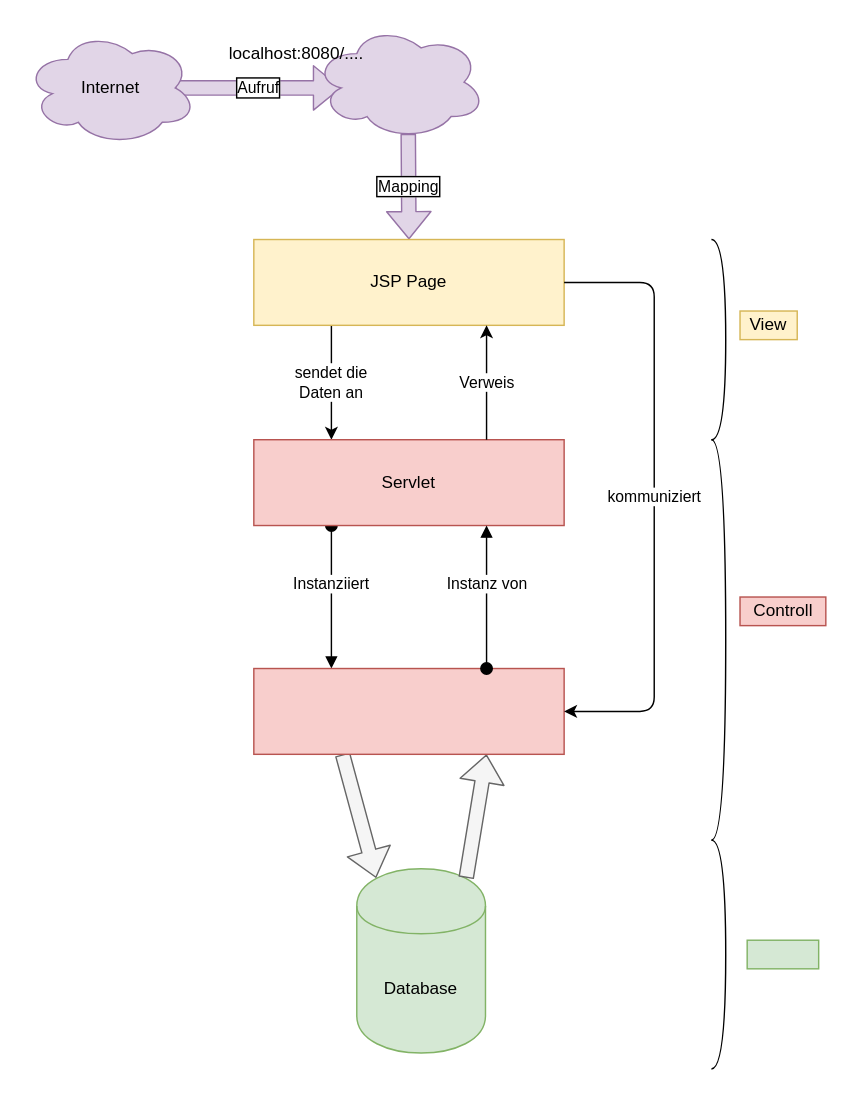
This 851x1094 diagram has some shape labels left out. The shapes that lost their labels are listed below. From the top down, each one's box as (x1, y1, x2, y2) in pixels, then its label:
(312, 24, 485, 139): Tomcat
(252, 667, 564, 754): Bean
(746, 939, 819, 969): Model
